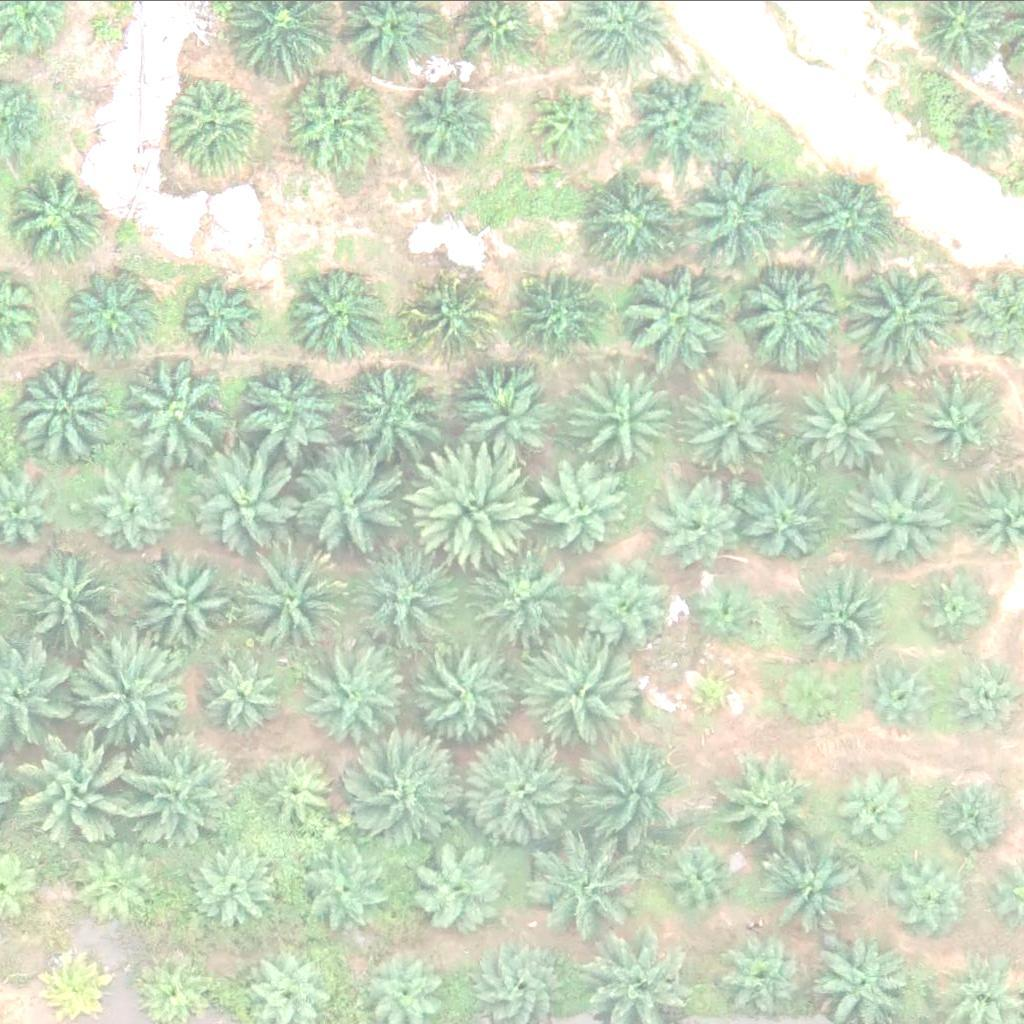Kelapa_Sawit: (411, 438, 537, 563), (289, 448, 403, 561), (18, 547, 132, 660), (677, 159, 790, 272), (621, 258, 734, 371), (732, 254, 845, 367), (237, 546, 350, 659), (349, 542, 462, 655), (404, 635, 517, 748), (465, 738, 578, 851), (120, 354, 233, 467), (122, 731, 235, 844), (195, 441, 308, 554), (567, 739, 681, 851), (5, 349, 119, 461), (26, 726, 140, 838), (844, 256, 957, 368), (305, 643, 418, 755), (522, 638, 635, 750), (356, 741, 469, 853), (69, 636, 182, 748), (798, 173, 899, 273), (282, 261, 383, 361), (341, 354, 442, 454), (578, 368, 679, 468), (690, 373, 791, 473), (798, 377, 899, 477), (470, 551, 571, 651), (571, 549, 672, 649), (719, 757, 820, 857), (768, 843, 869, 943), (540, 843, 641, 943), (12, 166, 113, 266), (134, 548, 235, 648), (785, 558, 886, 658), (283, 70, 383, 170), (628, 67, 728, 167), (248, 359, 348, 459), (448, 369, 548, 469), (850, 466, 950, 566), (406, 836, 506, 936), (168, 72, 268, 172), (68, 264, 168, 364), (400, 85, 488, 173), (595, 174, 683, 262), (406, 274, 494, 362), (658, 481, 746, 569), (255, 748, 343, 836), (657, 834, 745, 922), (175, 275, 263, 363), (200, 648, 288, 736), (79, 840, 167, 928), (745, 479, 834, 566), (305, 849, 394, 936), (514, 272, 602, 359), (916, 372, 1004, 459), (538, 464, 626, 551), (860, 647, 948, 734), (726, 930, 814, 1017), (94, 458, 182, 545), (188, 842, 276, 929), (843, 776, 919, 851), (931, 774, 1007, 849), (691, 575, 767, 650), (531, 86, 607, 161), (778, 656, 854, 731), (38, 944, 114, 1019), (913, 568, 988, 643), (898, 856, 973, 931), (679, 662, 742, 724)
